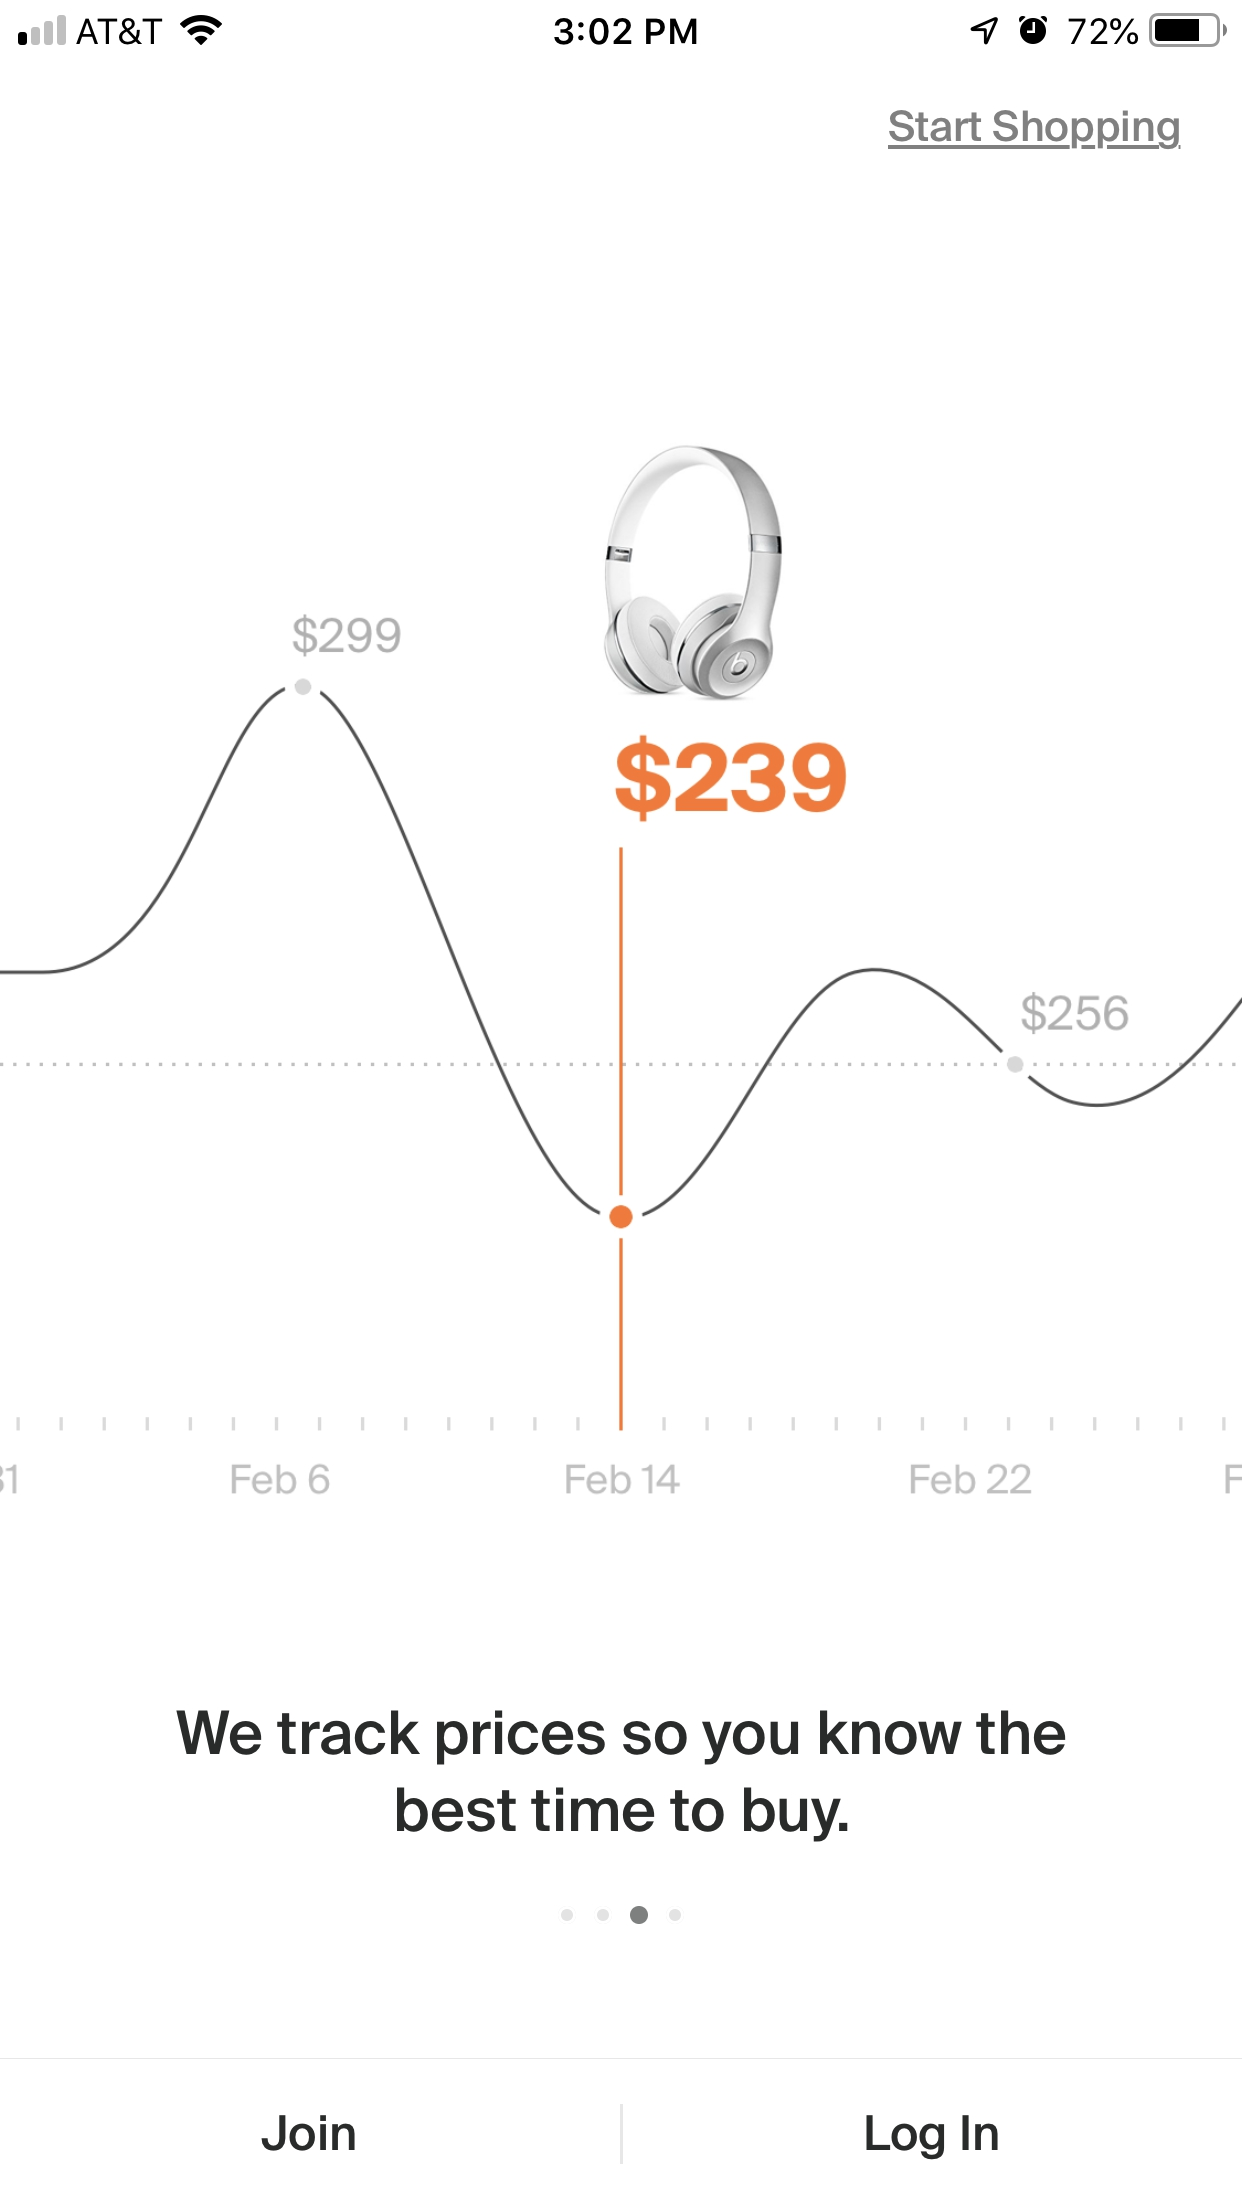Image: (2, 446, 1242, 1495)
PageIndicator: (558, 1905, 685, 1926)
Text: (176, 1709, 1066, 1843), (887, 111, 1181, 152)
TextButton: (622, 2058, 1242, 2208), (2, 2058, 622, 2208)
UpperTaskBar: (2, 2, 1242, 49)
